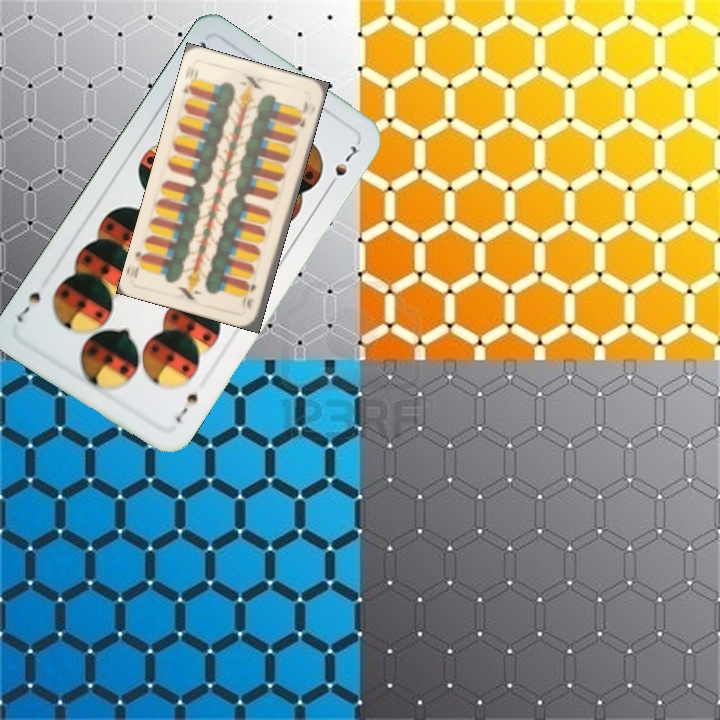E10: (179, 66, 199, 98), (242, 280, 259, 312)
S7: (171, 389, 201, 425)
